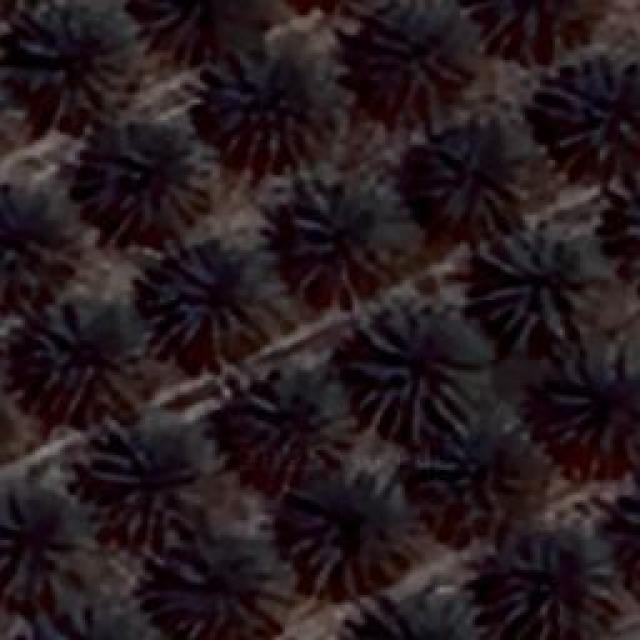PalmTree: (104, 110, 627, 229), (267, 175, 405, 305), (26, 128, 104, 358), (475, 220, 603, 345), (350, 0, 480, 120), (144, 534, 294, 638), (350, 318, 472, 440), (14, 7, 128, 125), (150, 245, 275, 350), (412, 432, 536, 536), (498, 530, 620, 635), (290, 482, 412, 586), (95, 130, 215, 235), (535, 356, 640, 474), (0, 173, 92, 306), (206, 54, 322, 158), (418, 126, 536, 226), (95, 430, 200, 542), (242, 370, 356, 468), (0, 484, 90, 608), (544, 54, 638, 168), (134, 0, 284, 65), (481, 0, 614, 60), (356, 595, 482, 640), (25, 602, 155, 638), (616, 467, 640, 582), (0, 49, 23, 158), (622, 162, 640, 295), (621, 467, 640, 582)
